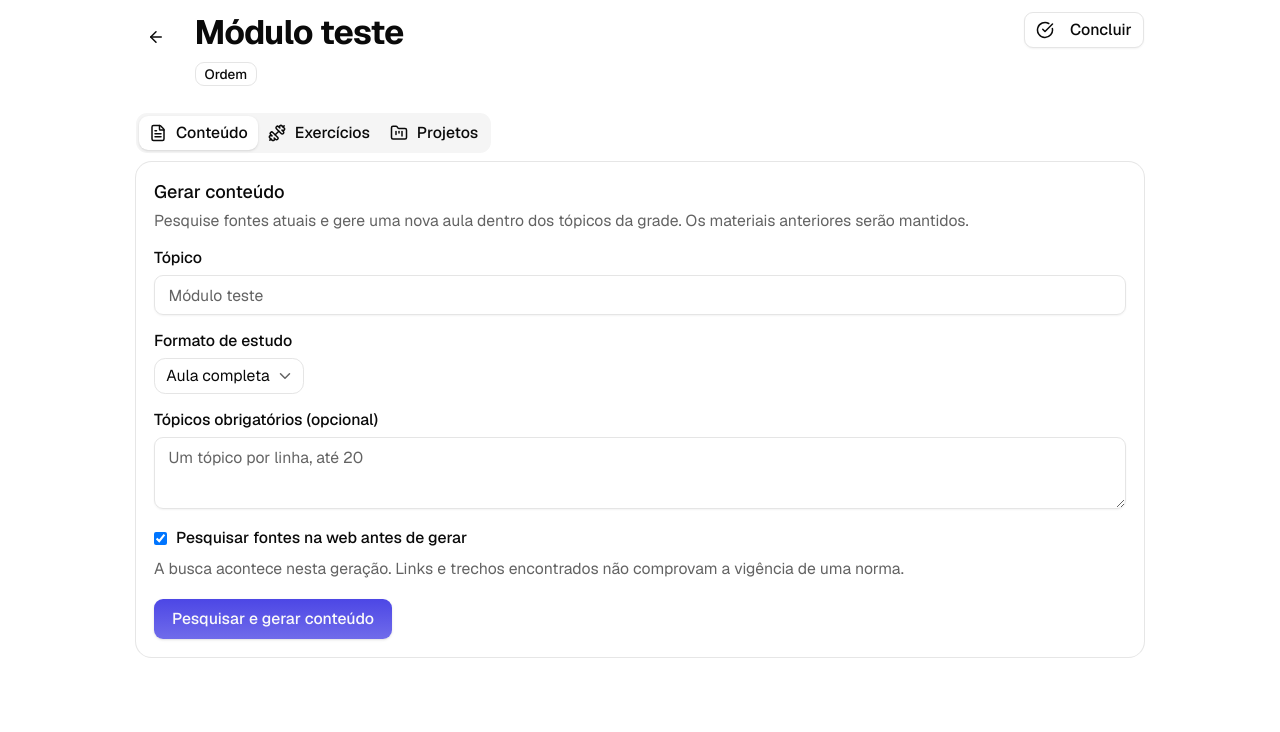
it: Conclusão na página do módulo › exibe Concluído após salvar e consultar novamente o módulo
Click the button "Concluir".
click(1084, 30)  # box [1024,12,1144,48]
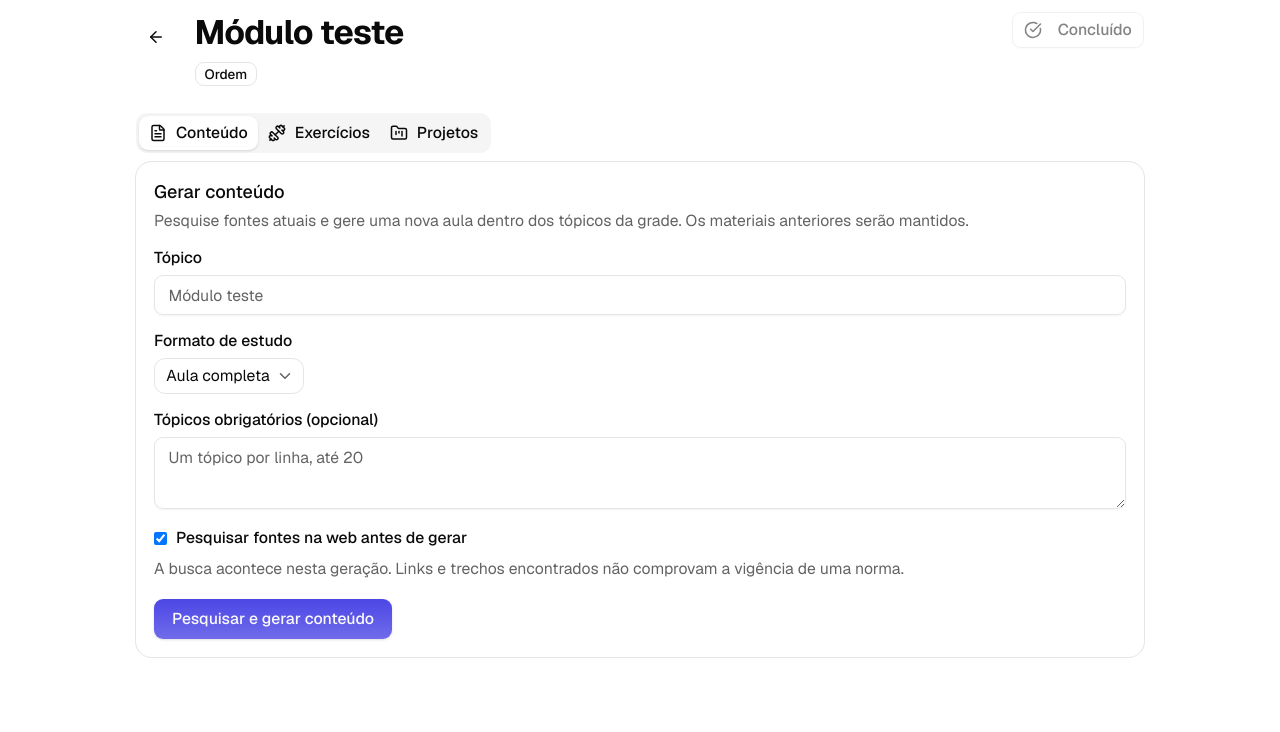
expect the button "Concluído" is disabled: met, box [1012,12,1144,48]
